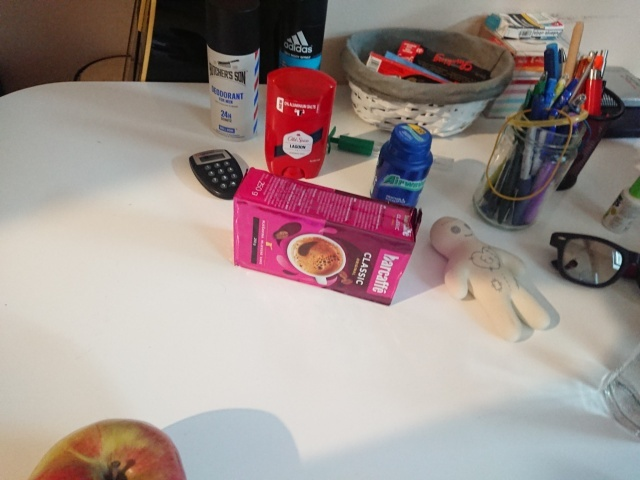Barcaffe Classic Original 225g: (230, 163, 425, 308)
